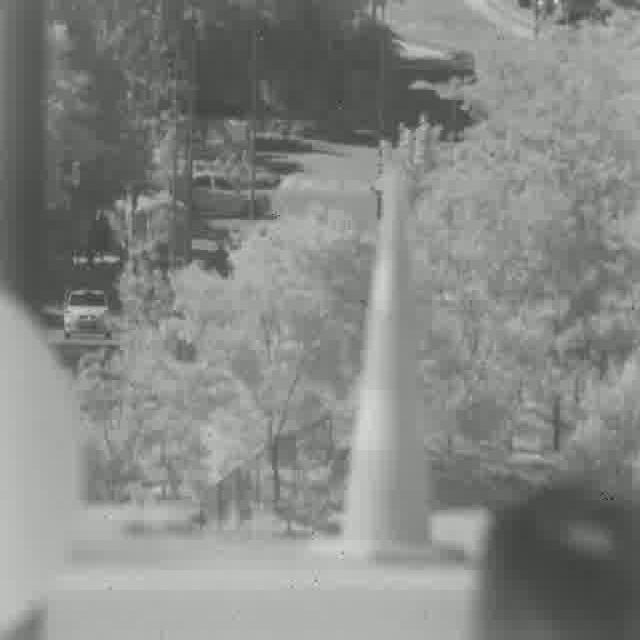Car: (65, 290, 112, 340)
